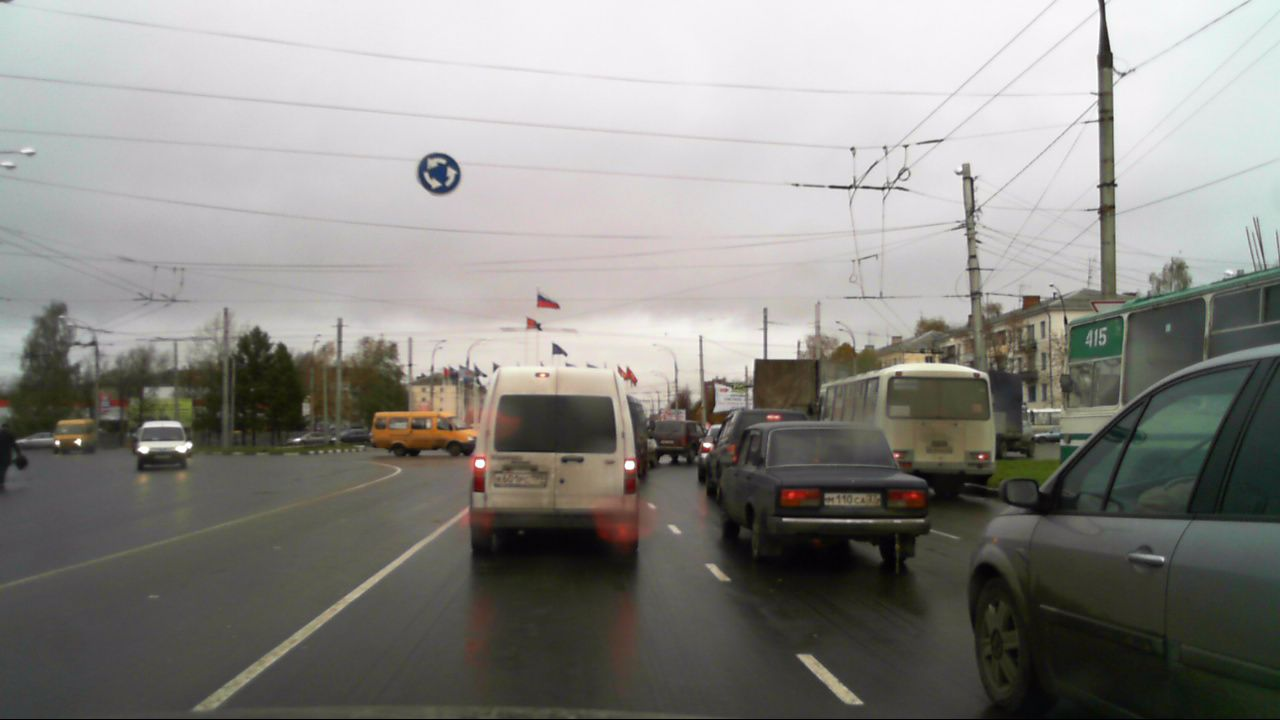Round-About: (416, 151, 461, 195)
